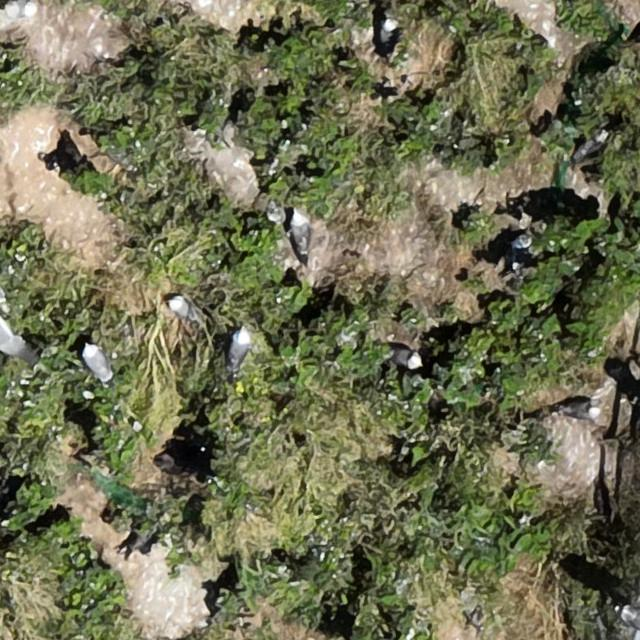umineko: (83, 347, 110, 382), (228, 330, 250, 368), (291, 213, 309, 252), (389, 347, 420, 367), (562, 402, 598, 419), (168, 297, 192, 321), (378, 15, 396, 47), (7, 0, 34, 16)
